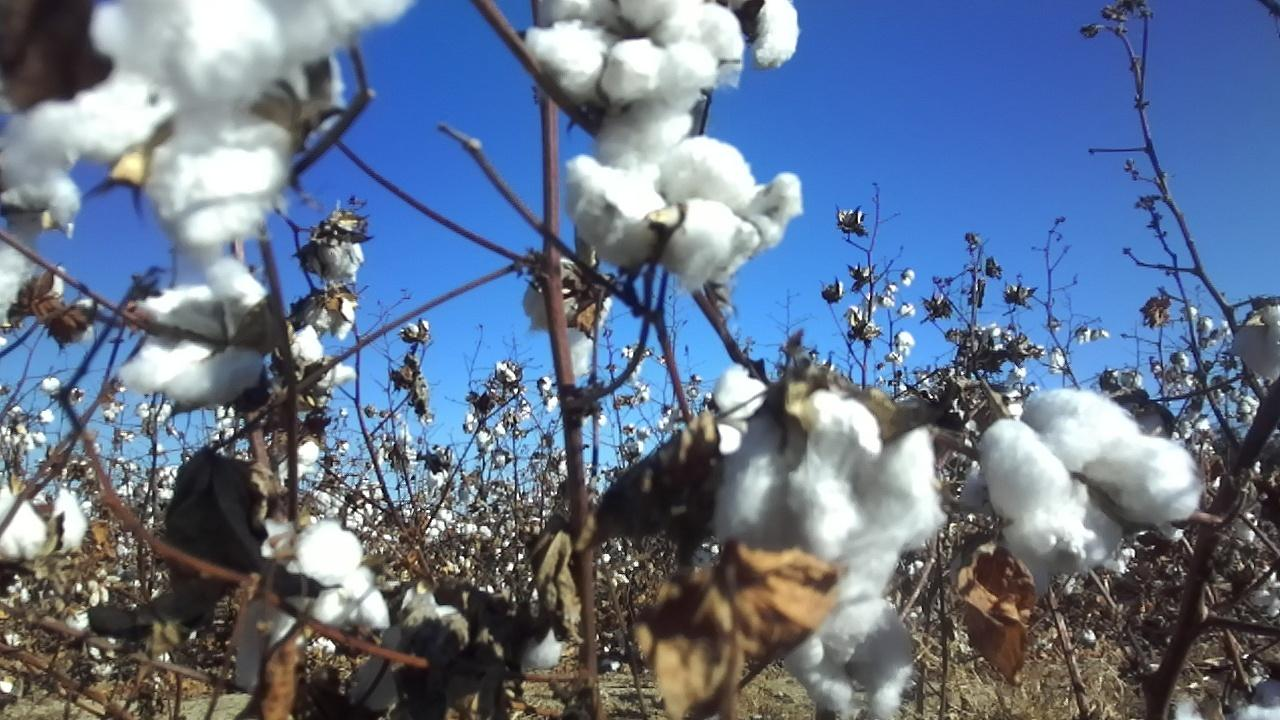cotton_ready: (713, 393, 944, 584), (92, 0, 414, 137), (980, 390, 1204, 570), (567, 103, 759, 287), (0, 66, 179, 219), (233, 522, 392, 692), (147, 110, 297, 257), (120, 257, 272, 402), (524, 0, 714, 109), (784, 581, 920, 720), (709, 170, 804, 281), (255, 57, 352, 144), (525, 271, 592, 384), (1179, 652, 1280, 720), (0, 485, 85, 562), (0, 215, 49, 330), (709, 364, 772, 450), (304, 218, 365, 284)
